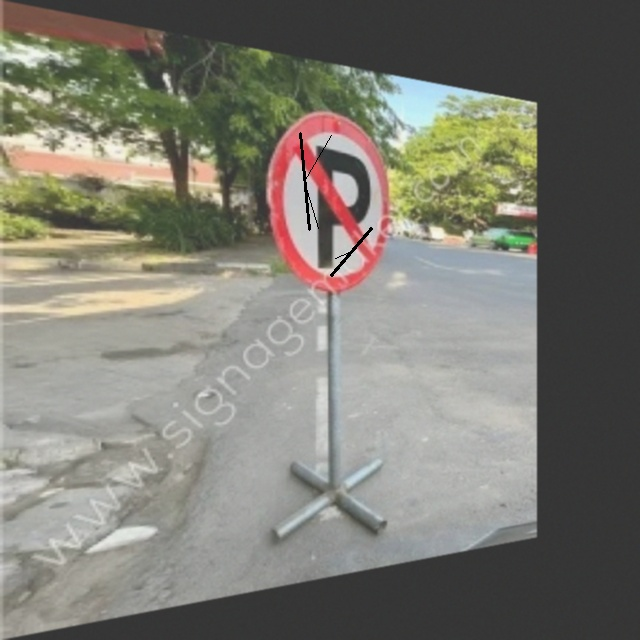No_Parking: (269, 101, 391, 293)
